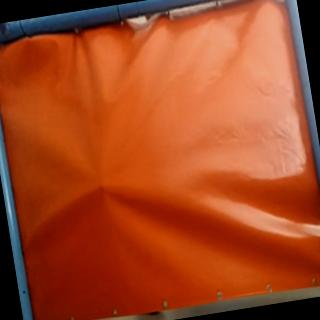Hit-hRxx: (94, 178, 115, 194)
